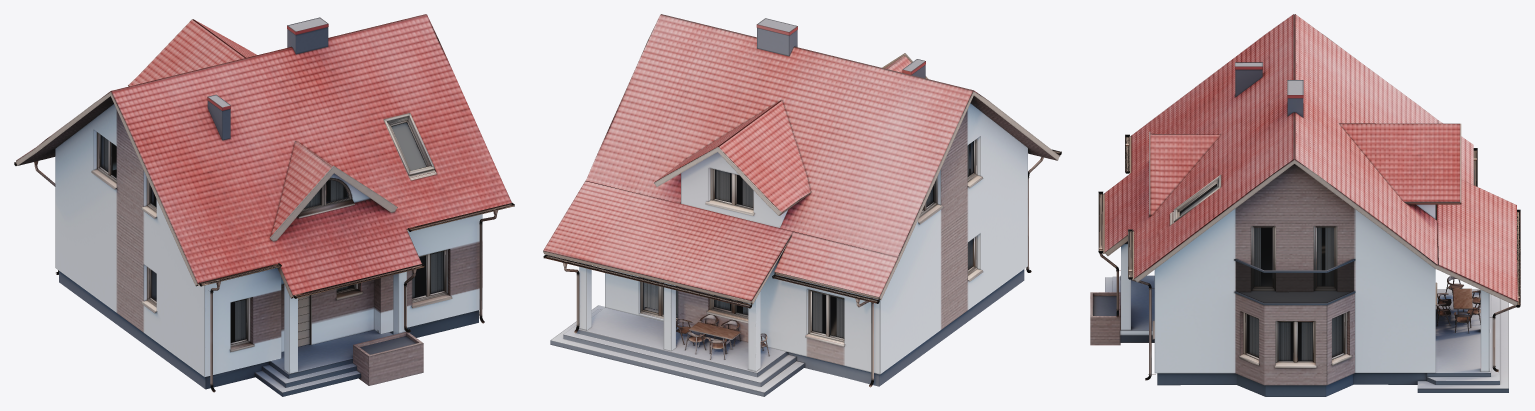
File: House.glb
The picture shows the model from 3 angles, left to right: view 1: azimuth 30°, elevation 25°; view 2: azimuth 150°, elevation 25°; view 3: azimuth 270°, elevation 25°; orthographic projection. The views are drawn at different scales.
Parts seen in each view (by area): view 1: Object029_Material #2125644136_0 (×3), Object030_CRN.cgaxis_models_46_15_03_0, Object030_CRN.cgaxis_models_46_14_03_0, Line017; view 2: Object029_Material #2125644136_0 (×3), Object030_CRN.cgaxis_models_46_15_03_0, Line017; view 3: Object029_Material #2125644136_0 (×3), Object030_CRN.Solid Glass_0, Object030_CRN.cgaxis_models_46_14_03_0, Line017, Object030_CRN.cgaxis_models_46_15_03_0.
Boxes of the visible parts, x1,y1,x2,y2 form: Object029_Material #2125644136_0 (×3): (14,14,514,396); Object030_CRN.cgaxis_models_46_15_03_0: (100,135,443,297); Object030_CRN.cgaxis_models_46_14_03_0: (150,122,426,342); Line017: (104,137,443,340); Object029_Material #2125644136_0 (×3): (543,14,1061,396); Object030_CRN.cgaxis_models_46_15_03_0: (643,169,933,337); Line017: (644,145,970,337); Object029_Material #2125644136_0 (×3): (1090,14,1520,396); Object030_CRN.Solid Glass_0: (1236,261,1353,302); Object030_CRN.cgaxis_models_46_14_03_0: (1180,184,1343,357); Line017: (1249,227,1342,360); Object030_CRN.cgaxis_models_46_15_03_0: (1278,322,1312,360).
Size of the model in its own units: 11.49 by 9.11 by 13.96.
Materials: 5 (2 with a texture image).
